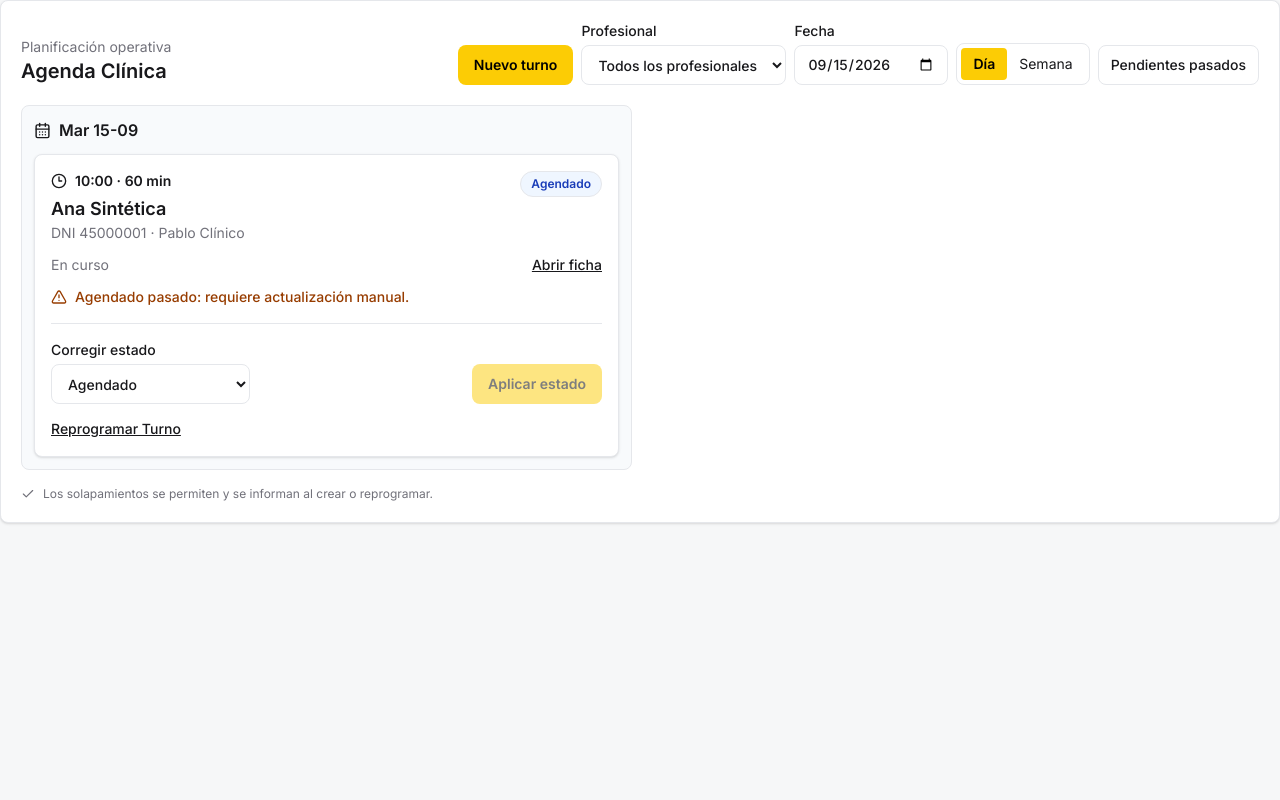
it: keeps the existing status error for CONCURRENT_MODIFICATION
Select "Cancelado" in the dropdown named "Nuevo estado de Ana Sintética" at coordinates (150, 384), box [51,364,250,404]
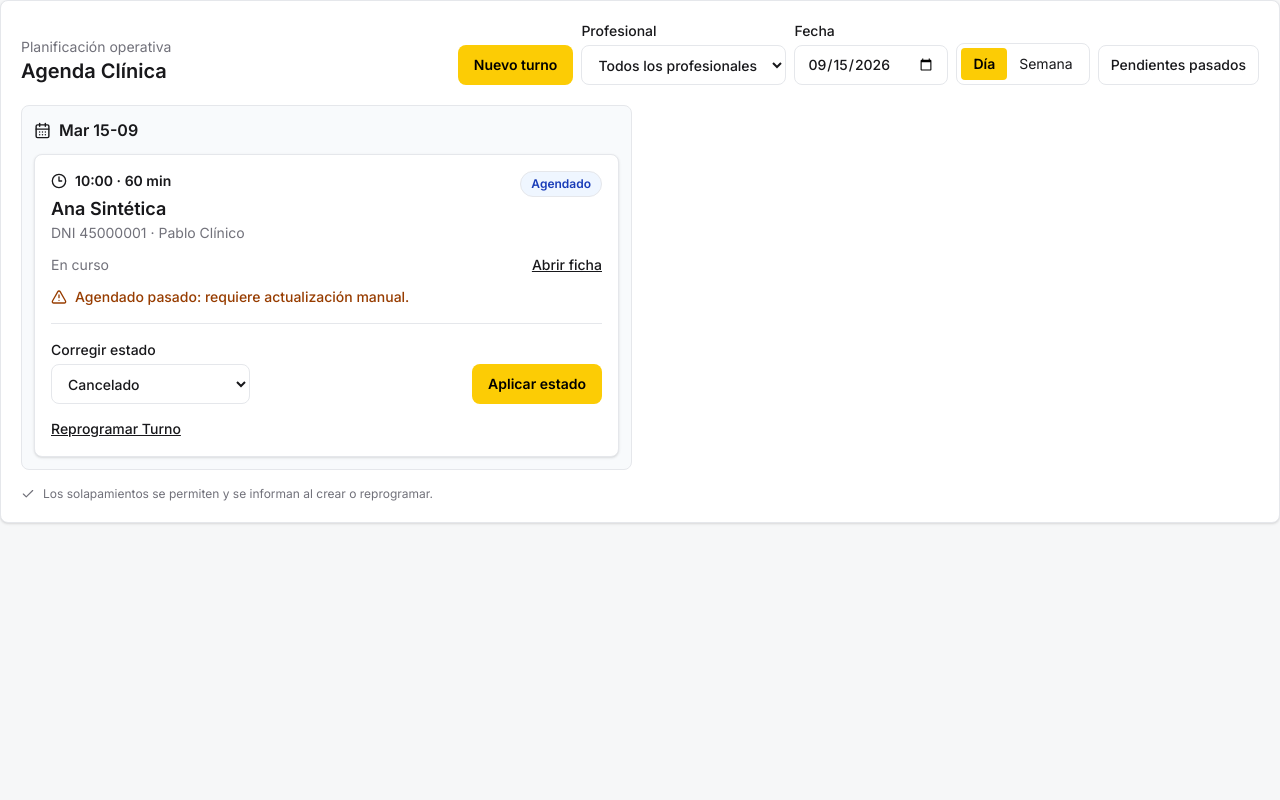
Click the button "Aplicar estado".
click(537, 384)  # box [472,364,602,404]
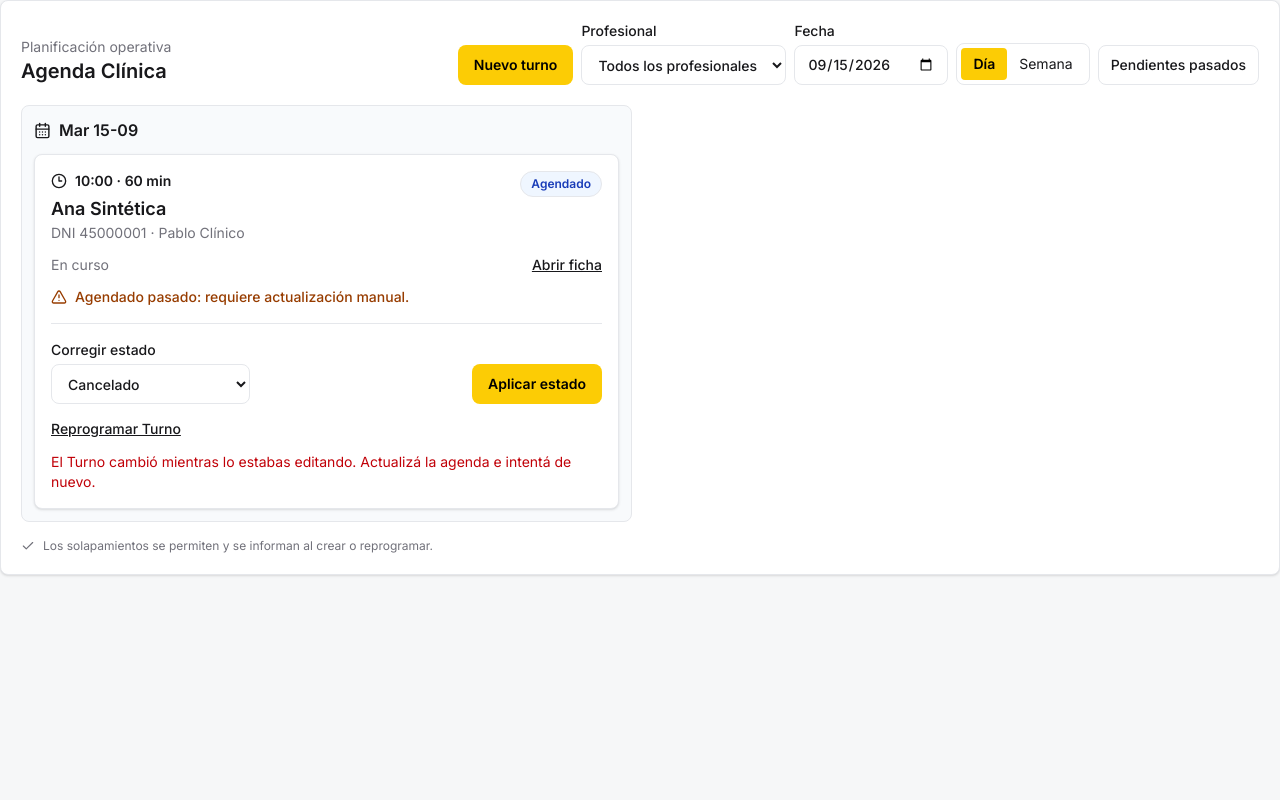
Expected: the message does not show "internal detail", [51,452,602,492]
Now the message shows "El Turno cambió mientras lo estabas editando.", box [51,453,571,490]
